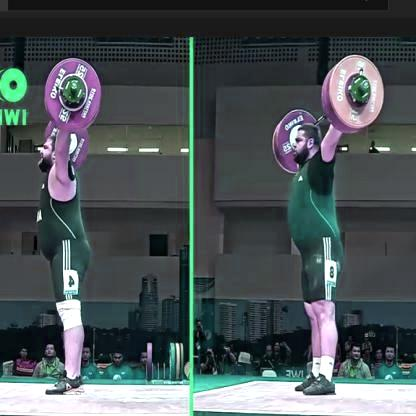Barbell: (65, 78, 80, 93), (359, 78, 369, 93)
